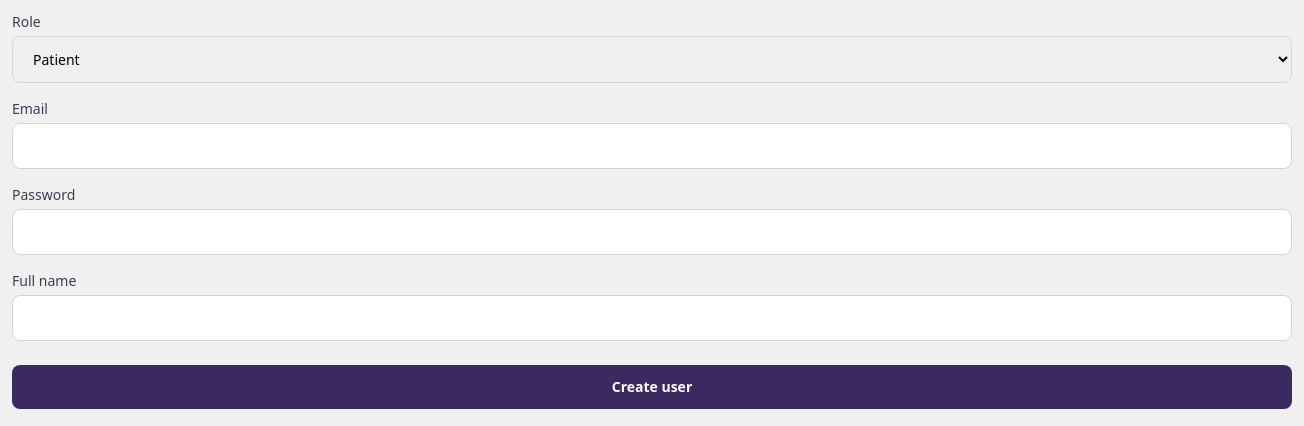
Test: CreateUserForm › hides Full name field when role is ADMIN
Select "Admin" in the dropdown labelled "Role" at (652, 60), box [12,36,1292,83]
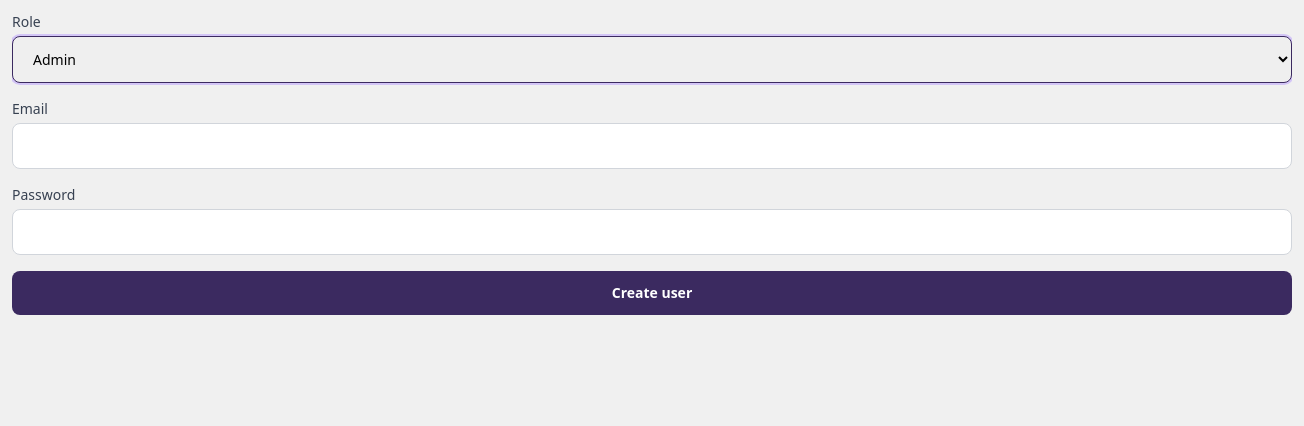
Result: the label labelled "Full name" is gone
